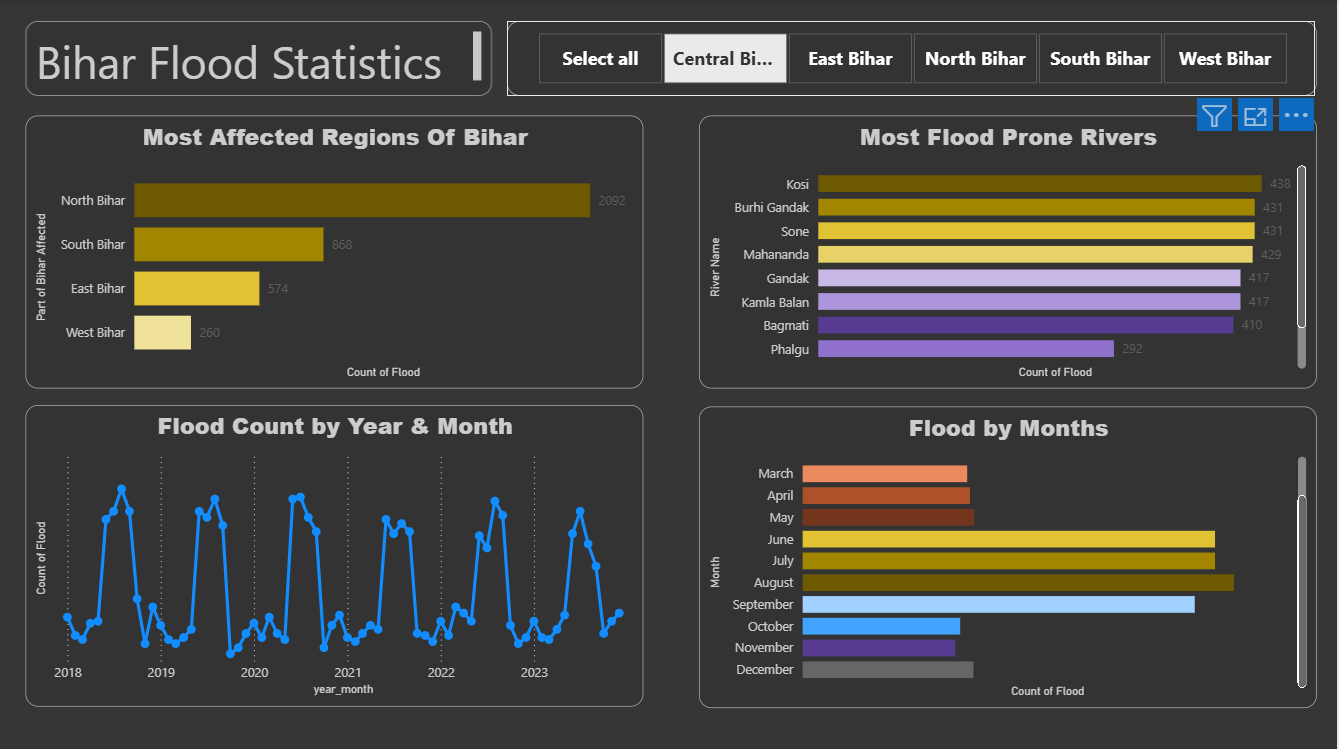

Layout of this report page (visuals, bound fields, positions):
{"tool":"powerbi","page":{"name":"Page 1","canvas":[1280,720],"ordinal":0},"visuals":[{"type":"clusteredBarChart","title":"Most Affected Regions Of Bihar","fields":{"Category":["bihar_river_flood_data_with_region_year_month.Part of Bihar Affected"],"Y":["CountNonNull(bihar_river_flood_data_with_region_year_month.Flood)"]},"box":[27,109.8,590.1,260.9],"z":0},{"type":"clusteredBarChart","title":"Most Flood Prone Rivers","fields":{"Category":["bihar_river_flood_data_with_region_year_month.River Name"],"Y":["CountNonNull(bihar_river_flood_data_with_region_year_month.Flood)"]},"box":[669.6,109.8,590.1,260.9],"z":1000},{"type":"lineChart","title":"Flood Count by Year & Month","fields":{"Y":["CountNonNull(bihar_river_flood_data_with_region_year_month.Flood)"],"Category":["bihar_river_flood_data_with_region_year_month.year_month"]},"box":[27,386.5,590.1,287.9],"z":2000},{"type":"slicer","fields":{"Values":["bihar_river_flood_data_with_region_year_month.Part of Bihar Affected"]},"box":[486.7,20.7,773,71.6],"z":3000},{"type":"textbox","box":[27,20.7,445.4,71.6],"z":4000},{"type":"clusteredBarChart","title":"Flood by Months","fields":{"Category":["year_month.year_month.Variation.Date Hierarchy.Month"],"Y":["CountNonNull(year_month.Flood)"]},"box":[669.6,388.1,590.1,287.9],"z":4001}]}

Visuals, with their boxes in screenshot pixels (x1, y1, x2, y2), scaled from the page's 1280x720 canvas onto the 1339x749 screenshot:
"Most Affected Regions Of Bihar" clusteredBarChart: rect(28, 114, 646, 386)
"Most Flood Prone Rivers" clusteredBarChart: rect(700, 114, 1318, 386)
"Flood Count by Year & Month" lineChart: rect(28, 402, 646, 702)
slicer - bihar_river_flood_data_with_region_year_month.Part of Bihar Affected: rect(509, 22, 1318, 96)
textbox: rect(28, 22, 494, 96)
"Flood by Months" clusteredBarChart: rect(700, 404, 1318, 703)
